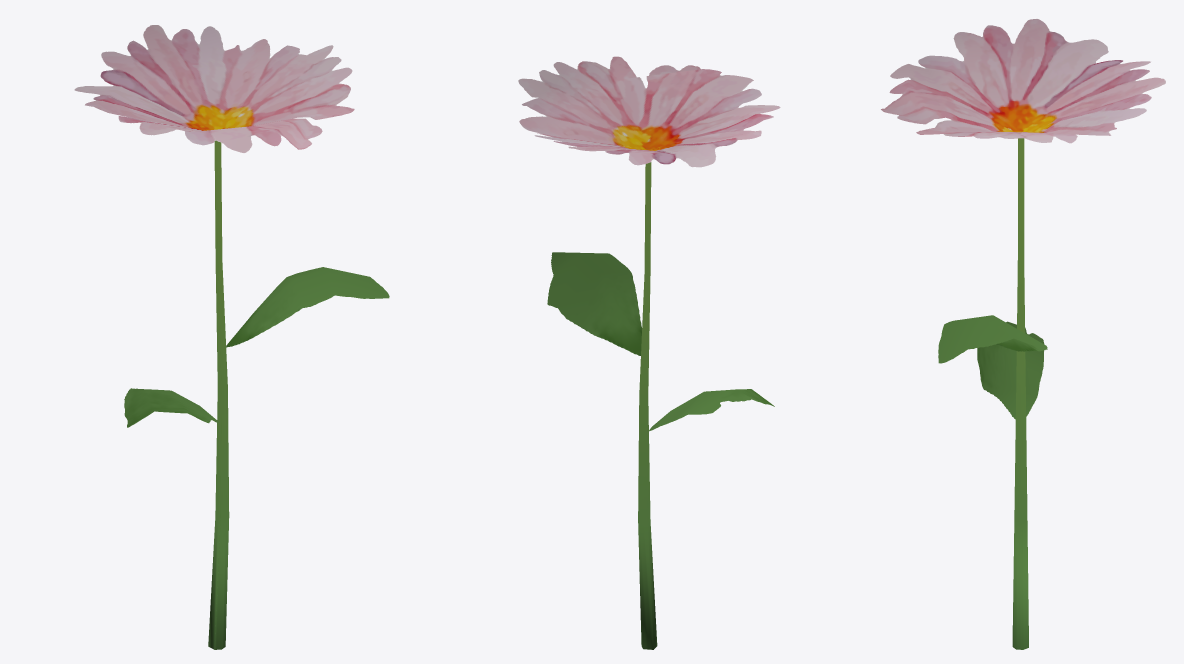
The model's file is FlowerB.fbx.
The picture shows the model from 3 angles, left to right: view 1: azimuth 30°, elevation 25°; view 2: azimuth 150°, elevation 25°; view 3: azimuth 270°, elevation 25°; orthographic projection. The views are drawn at different scales.
Visible parts, largest first — view 1: FlowerB_LOD0; view 2: FlowerB_LOD0; view 3: FlowerB_LOD0.
Boxes of the visible parts, bbox=[...] form: FlowerB_LOD0: bbox=[74, 25, 389, 649]; FlowerB_LOD0: bbox=[518, 56, 780, 649]; FlowerB_LOD0: bbox=[881, 19, 1165, 649].
Size of what is drawn, in the model's own units: 29.93 by 53.72 by 25.94.
